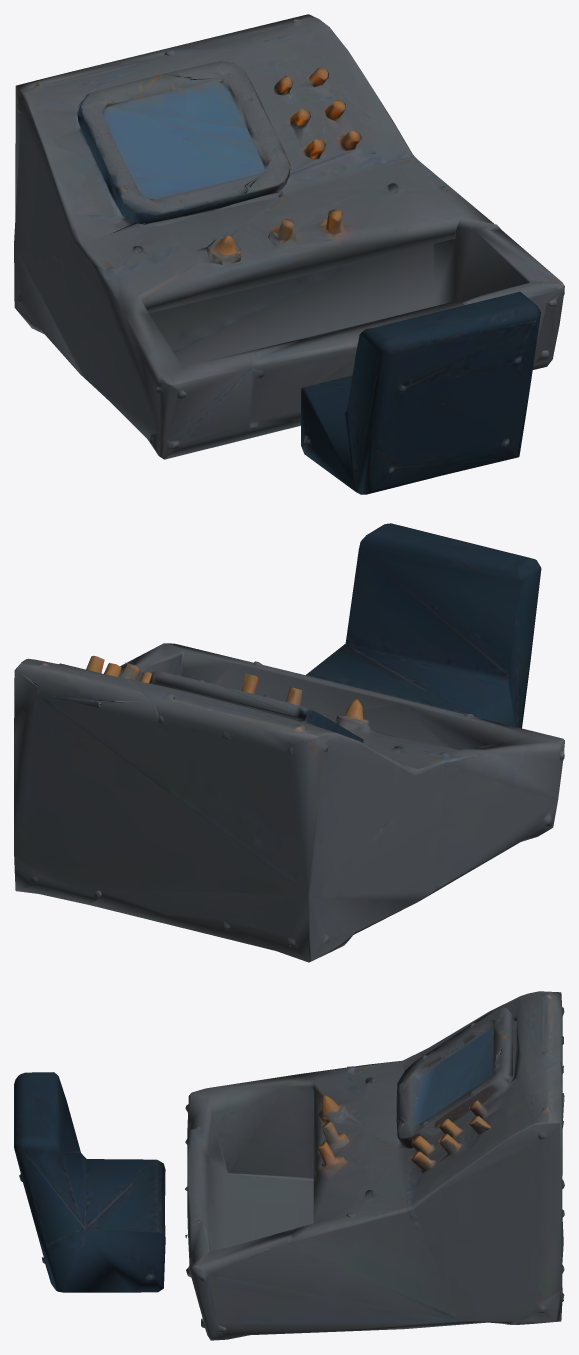
3 views of the same model, one above another, from view 1: azimuth 30°, elevation 25°; view 2: azimuth 150°, elevation 25°; view 3: azimuth 270°, elevation 25° (orthographic). The views are drawn at different scales.
Size of the model in its own units: 1.47 by 0.791 by 1.9.
1 material, 1 textured.
